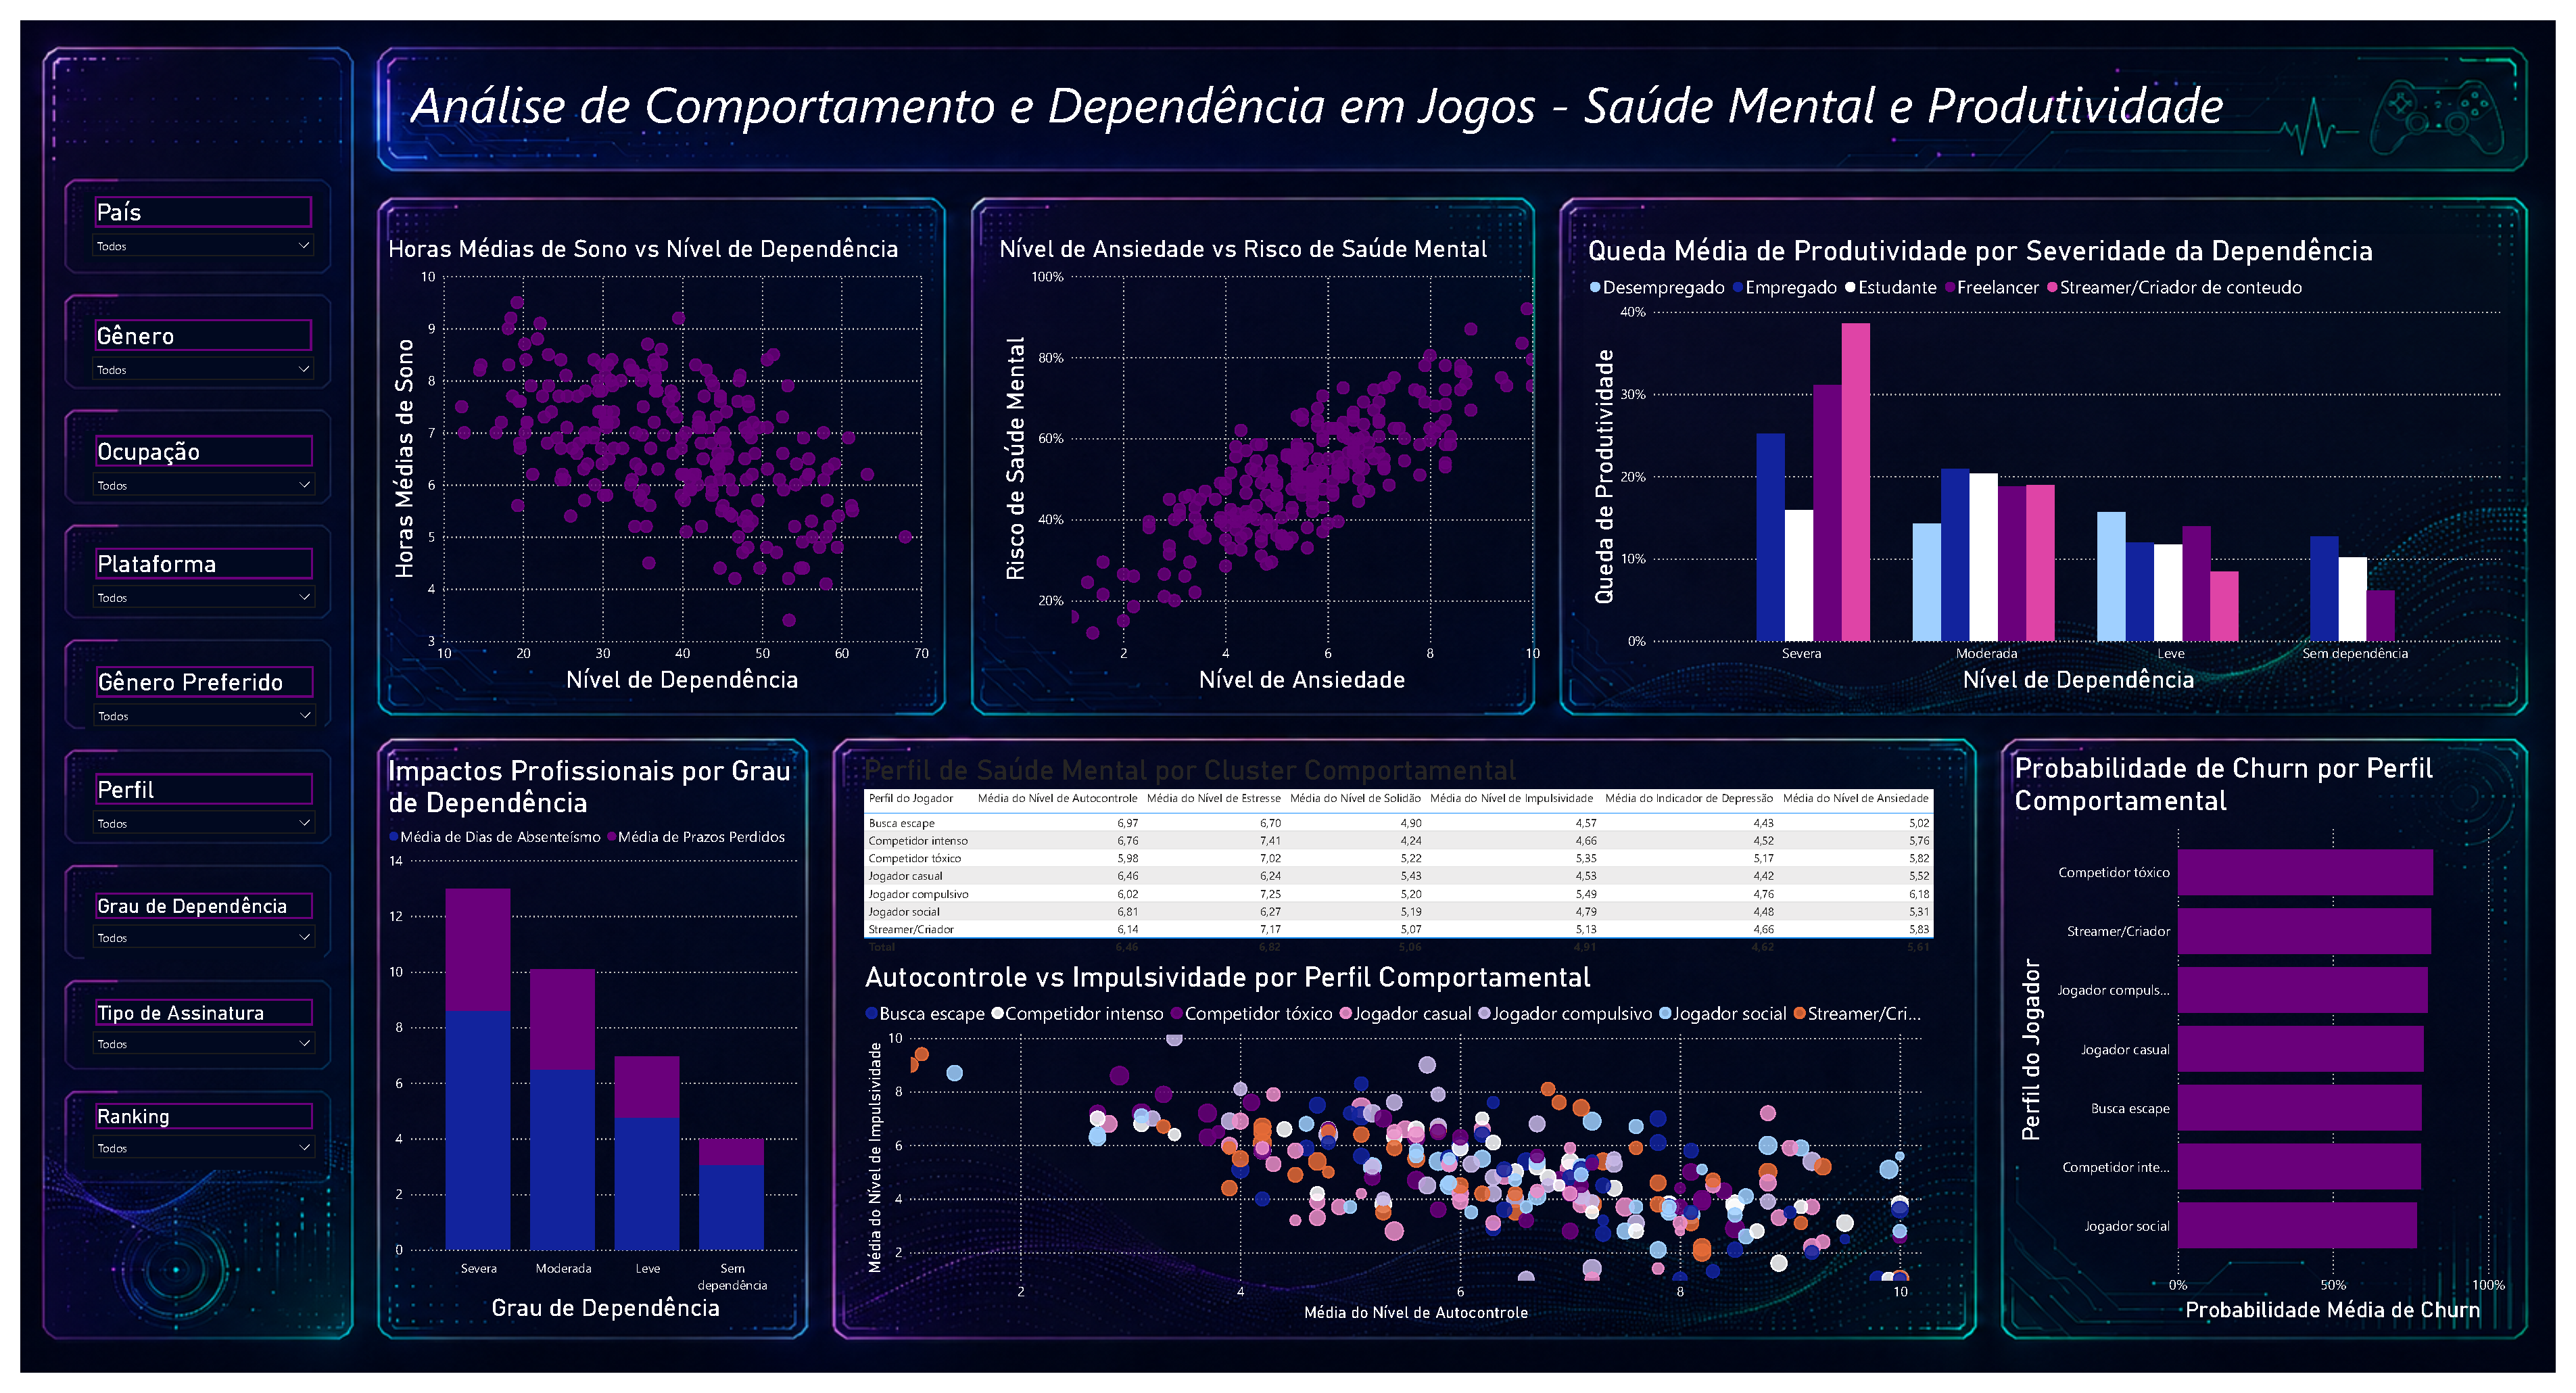

What the dashboard file says about the page in this screenshot:
{"tool":"powerbi","page":{"name":"Saúde Mental e Produtividade","canvas":[3000,1600],"ordinal":2},"visuals":[{"type":"textbox","box":[456.7,53.3,2170,103.3],"z":0},{"type":"scatterChart","title":"Horas Médias de Sono vs Nível de Dependência","fields":{"Y":["Medidas.Horas Médias de Sono"],"X":["Dados.score_dependencia"]},"box":[430,253.3,650,546.7],"z":1000},{"type":"scatterChart","title":"Nível de Ansiedade vs Risco de Saúde Mental","fields":{"Y":["Dados.score_risco_saude_mental"],"X":["Dados.nivel_ansiedade"]},"box":[1153.3,253.3,650,546.7],"z":2000},{"type":"clusteredColumnChart","title":"Queda Média de Produtividade por Severidade da Dependência","fields":{"Category":["Dados.severidade_dependencia"],"Series":["Dados.ocupacao"],"Y":["Avg(Dados.queda_produtividade_percentual)"]},"box":[1850,253.3,1093.3,546.7],"z":3000},{"type":"columnChart","title":"Impactos Profissionais por Grau de Dependência","fields":{"Y":["Medidas.Média de Dias de Absenteísmo","Medidas.Média de Prazos Perdidos"],"Category":["Dados.severidade_dependencia"]},"box":[430,867.5,497.5,675],"z":4000},{"type":"tableEx","title":"Perfil de Saúde Mental por Cluster Comportamental","fields":{"Values":["Dados.cluster_comportamental","Avg(Dados.score_autocontrole)","Avg(Dados.score_estresse)","Avg(Dados.score_solidao)","Avg(Dados.score_impulsividade)","Avg(Dados.indicador_depressao)","Avg(Dados.nivel_ansiedade)"]},"box":[993.3,866.7,1306.7,246.7],"z":5000},{"type":"clusteredBarChart","title":"Probabilidade de Churn por Perfil Comportamental","fields":{"Category":["Dados.cluster_comportamental"],"Y":["Medidas.Probabilidade Média de Churn"]},"box":[2355,865,590,680],"z":6000},{"type":"scatterChart","title":"Autocontrole vs Impulsividade por Perfil Comportamental","fields":{"X":["Dados.score_autocontrole"],"Y":["Dados.score_impulsividade"],"Series":["Dados.cluster_comportamental"],"Size":["Avg(Dados.score_risco_saude_mental)"],"Category":["Dados.id_usuario"]},"box":[994,1112,1270,432],"z":7000},{"type":"slicer","title":"País","fields":{"Values":["Dados.pais"]},"box":[75.1,203.4,282.9,82.9],"z":7001},{"type":"slicer","title":"País","fields":{"Values":["Dados.genero"]},"box":[75.1,349.1,282.9,82.9],"z":7002},{"type":"slicer","title":"País","fields":{"Values":["Dados.ocupacao"]},"box":[75.7,485.7,282.9,82.9],"z":7003},{"type":"slicer","title":"País","fields":{"Values":["Dados.genero_preferido"]},"box":[77.1,758.6,282.9,82.9],"z":7004},{"type":"slicer","title":"País","fields":{"Values":["Dados.plataforma"]},"box":[75.7,618.6,282.9,82.9],"z":7005},{"type":"slicer","title":"País","fields":{"Values":["Dados.cluster_comportamental"]},"box":[75.7,885.7,282.9,84.3],"z":7006},{"type":"slicer","title":"País","fields":{"Values":["Dados.severidade_dependencia"]},"box":[75.7,1027.1,282.9,84.3],"z":7007},{"type":"slicer","title":"País","fields":{"Values":["Dados.status_assinatura"]},"box":[75.7,1152.9,282.9,84.3],"z":7008},{"type":"slicer","title":"País","fields":{"Values":["Dados.nivel_ranqueado"]},"box":[75.7,1275.7,282.9,84.3],"z":7009}]}

Visuals, with their boxes in screenshot pixels (x1, y1, x2, y2), scaled from the page's 3000x1600 canvas onto the 2576x1393 screenshot:
textbox: {"x1": 392, "y1": 47, "x2": 2256, "y2": 137}
"Horas Médias de Sono vs Nível de Dependência" scatterChart: {"x1": 369, "y1": 220, "x2": 928, "y2": 696}
"Nível de Ansiedade vs Risco de Saúde Mental" scatterChart: {"x1": 991, "y1": 220, "x2": 1548, "y2": 696}
"Queda Média de Produtividade por Severidade da Dependência" clusteredColumnChart: {"x1": 1589, "y1": 220, "x2": 2527, "y2": 696}
"Impactos Profissionais por Grau de Dependência" columnChart: {"x1": 369, "y1": 755, "x2": 796, "y2": 1343}
"Perfil de Saúde Mental por Cluster Comportamental" tableEx: {"x1": 853, "y1": 755, "x2": 1975, "y2": 970}
"Probabilidade de Churn por Perfil Comportamental" clusteredBarChart: {"x1": 2022, "y1": 753, "x2": 2529, "y2": 1345}
"Autocontrole vs Impulsividade por Perfil Comportamental" scatterChart: {"x1": 853, "y1": 968, "x2": 1944, "y2": 1344}
"País" slicer: {"x1": 64, "y1": 177, "x2": 308, "y2": 250}
"País" slicer: {"x1": 64, "y1": 304, "x2": 308, "y2": 376}
"País" slicer: {"x1": 65, "y1": 423, "x2": 308, "y2": 495}
"País" slicer: {"x1": 66, "y1": 661, "x2": 309, "y2": 732}
"País" slicer: {"x1": 65, "y1": 538, "x2": 308, "y2": 611}
"País" slicer: {"x1": 65, "y1": 771, "x2": 308, "y2": 845}
"País" slicer: {"x1": 65, "y1": 894, "x2": 308, "y2": 968}
"País" slicer: {"x1": 65, "y1": 1004, "x2": 308, "y2": 1077}
"País" slicer: {"x1": 65, "y1": 1110, "x2": 308, "y2": 1184}
